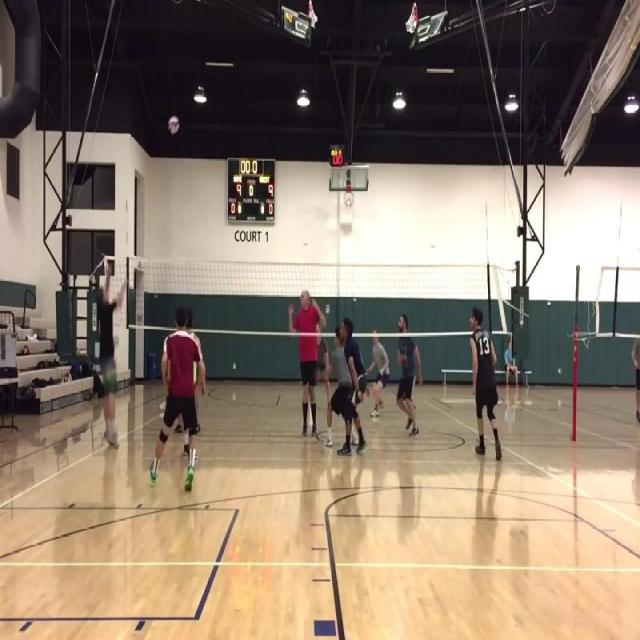volleyball: (168, 116, 179, 133)
